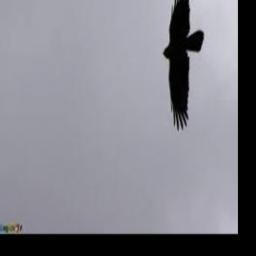Crow: (164, 0, 205, 132)
